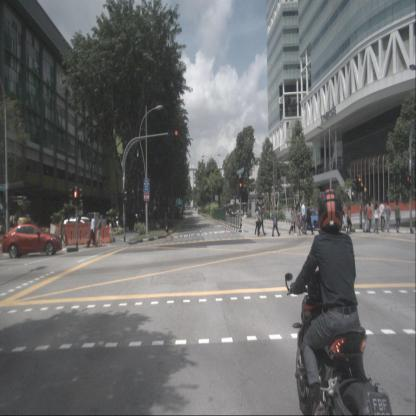barrier: (60, 223, 89, 245), (88, 224, 110, 245), (50, 223, 57, 242), (109, 222, 113, 242)
